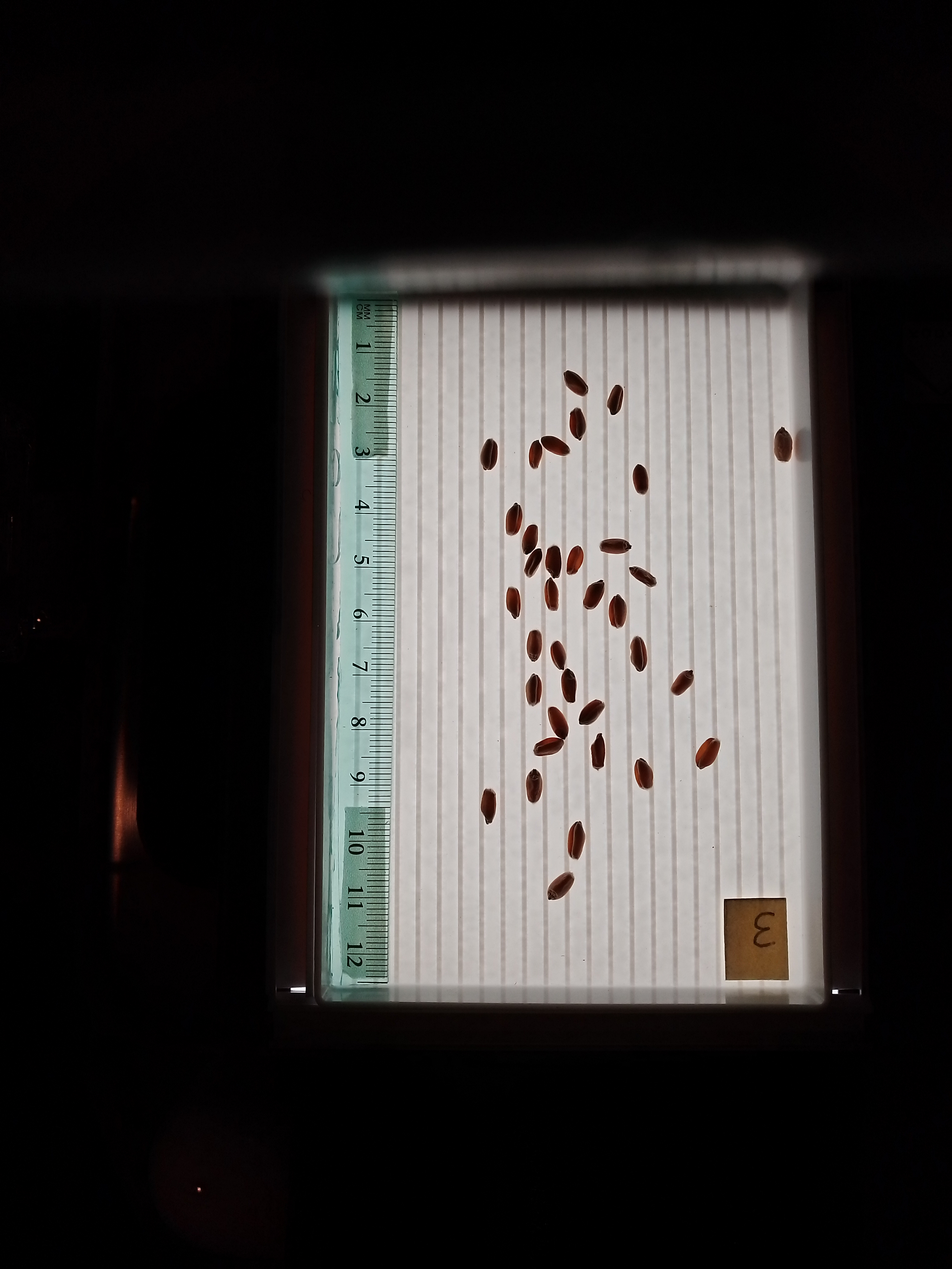seed mask: (696, 738, 720, 769), (548, 873, 573, 900), (567, 822, 585, 859), (548, 707, 568, 740), (774, 428, 793, 462), (580, 700, 604, 725), (634, 759, 653, 790), (534, 737, 563, 757), (480, 439, 498, 471), (565, 371, 588, 396), (526, 770, 543, 803), (630, 566, 656, 587), (569, 408, 586, 440), (609, 596, 626, 628), (631, 637, 647, 671), (584, 582, 604, 609), (561, 670, 577, 703), (480, 790, 496, 823), (601, 537, 630, 555), (541, 437, 568, 456), (671, 671, 693, 694), (566, 546, 584, 574), (546, 546, 562, 577), (607, 386, 624, 415), (506, 505, 522, 535), (526, 675, 542, 705), (522, 525, 538, 554), (527, 631, 543, 660), (633, 466, 649, 494), (525, 549, 542, 575), (592, 735, 605, 769), (545, 580, 559, 610), (506, 587, 520, 617), (551, 642, 565, 668), (529, 441, 542, 468)
